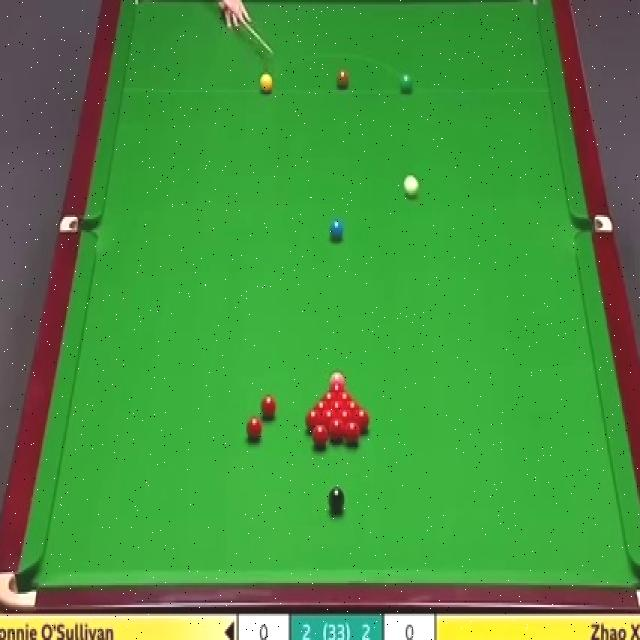black-ball: (327, 484, 345, 514)
blue-ball: (331, 219, 344, 244)
brown-ball: (336, 71, 349, 90)
green-ball: (400, 73, 412, 94)
pink-ball: (329, 368, 345, 386)
red-ball: (259, 393, 280, 420), (311, 424, 329, 450), (352, 408, 371, 431), (328, 417, 344, 443), (345, 418, 362, 442), (305, 408, 321, 432), (246, 416, 262, 439), (320, 408, 338, 426), (338, 410, 353, 428), (314, 402, 328, 420), (335, 392, 355, 403), (344, 400, 362, 412), (327, 382, 346, 392), (328, 402, 346, 412), (319, 392, 336, 402)
white-ball: (402, 169, 419, 196)
yellow-ball: (259, 72, 274, 95)
